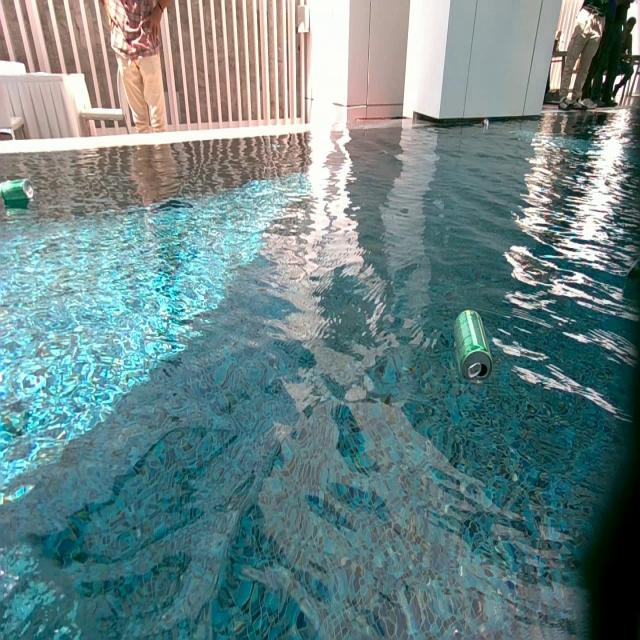Cans: (453, 309, 493, 383), (1, 178, 32, 198), (628, 250, 640, 292), (482, 118, 489, 129)
